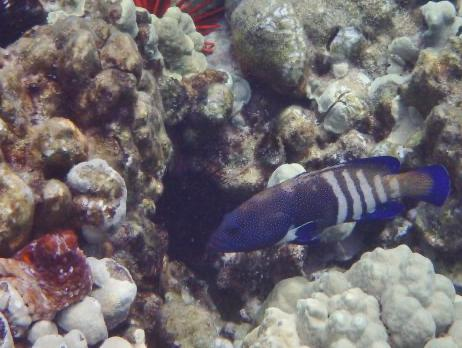Serranidae -Groupers-: (206, 149, 451, 257)
